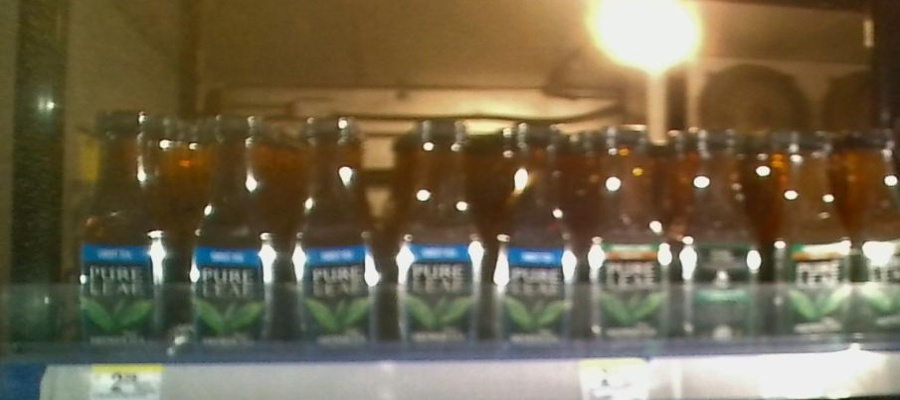bottle: (74, 100, 176, 357), (287, 105, 384, 355), (390, 111, 487, 360), (184, 108, 281, 349), (491, 118, 582, 360), (586, 119, 671, 353), (676, 128, 766, 341), (772, 123, 852, 349), (855, 123, 900, 340)
